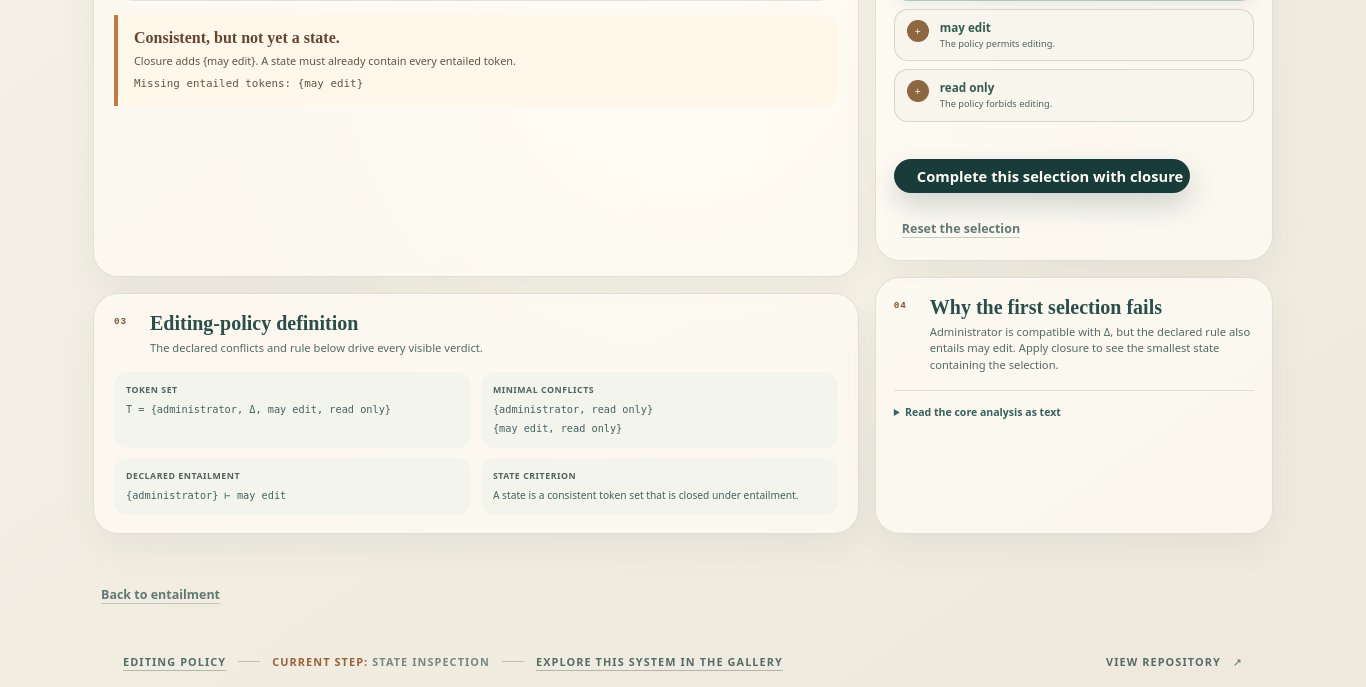
Test: ScottLab introduction and bottom-first lesson › reaches the current lesson's system in the gallery from the footer
(page scrolled)
Click the button "Explore this system in the gallery" at [659, 662], box [536,654,783,669]
(page scrolled)
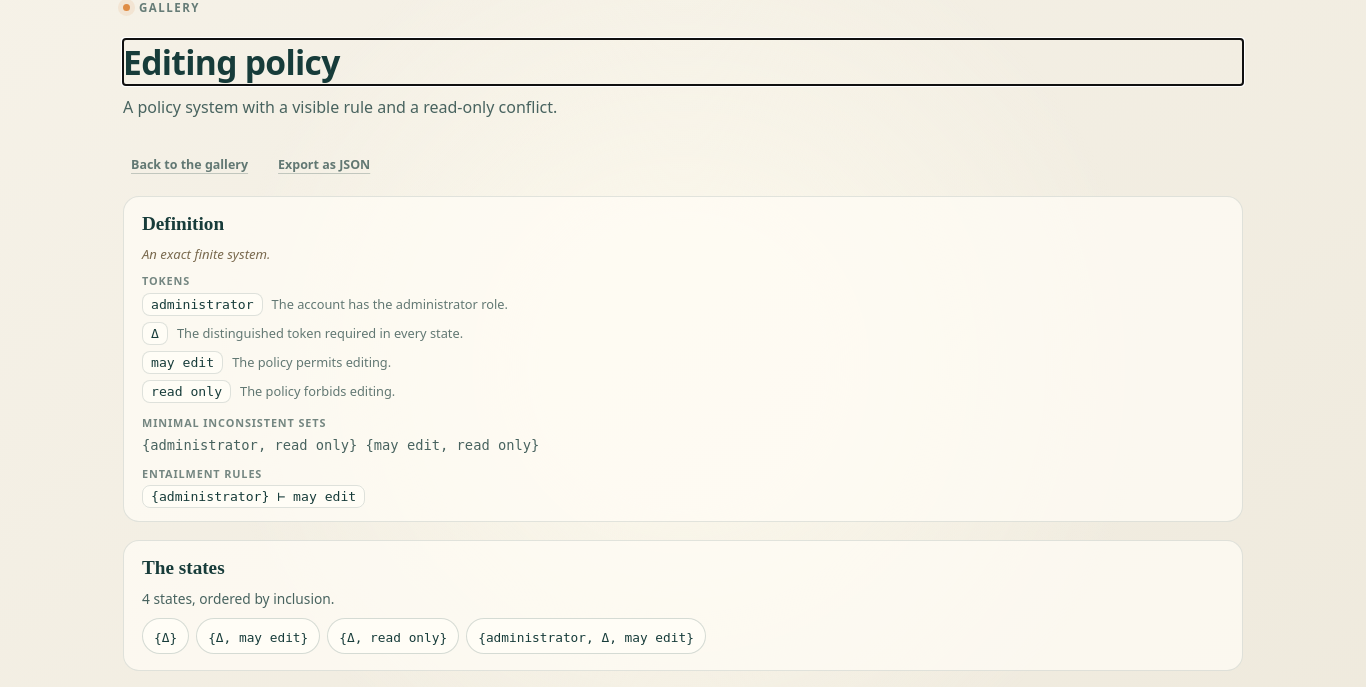
Expected: the text "{administrator} ⊢ may edit" is shown, [142,485,365,508]
Result: the heading "Editing policy" is shown at [123,39,340,85]
